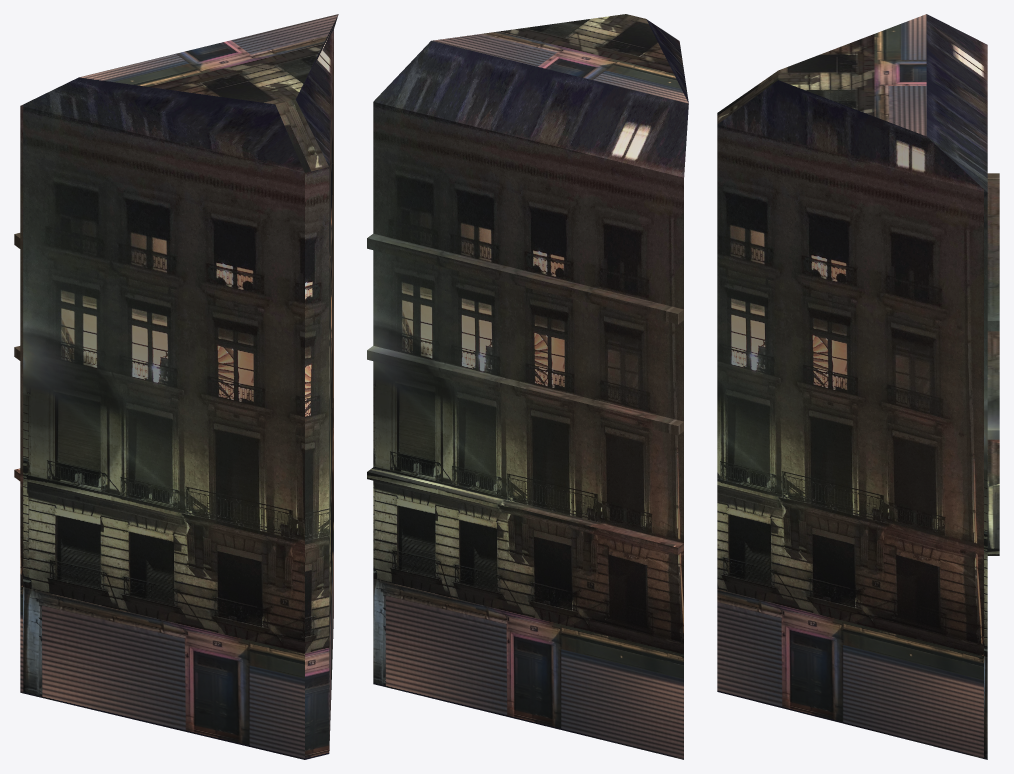
The model's file is Generic5.fbx.
3 renders of one model, left to right at view 1: azimuth 30°, elevation 25°; view 2: azimuth 150°, elevation 25°; view 3: azimuth 270°, elevation 25°, orthographic. The views are drawn at different scales.
Visible parts, largest first — view 1: Generic5; view 2: Generic5; view 3: Generic5.
Boxes of the visible parts, x1=… form: Generic5: x1=14, y1=14, x2=338, y2=759; Generic5: x1=367, y1=14, x2=688, y2=759; Generic5: x1=717, y1=14, x2=999, y2=759.
Size of the model in its own units: 9.15 by 7.39 by 17.64.
Materials: 1 (1 with a texture image).
